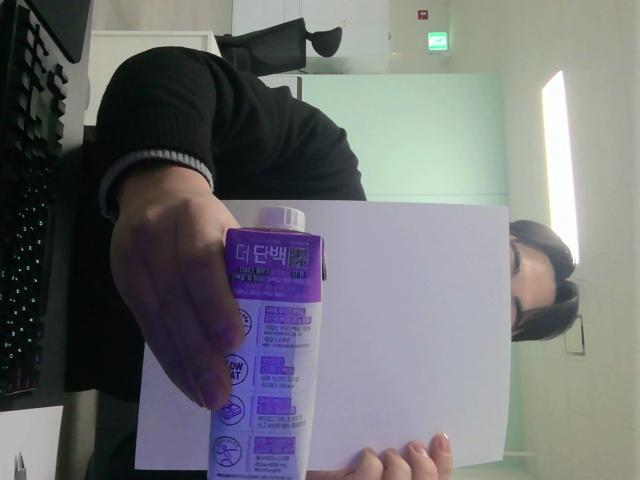milk: (208, 207, 323, 479)
